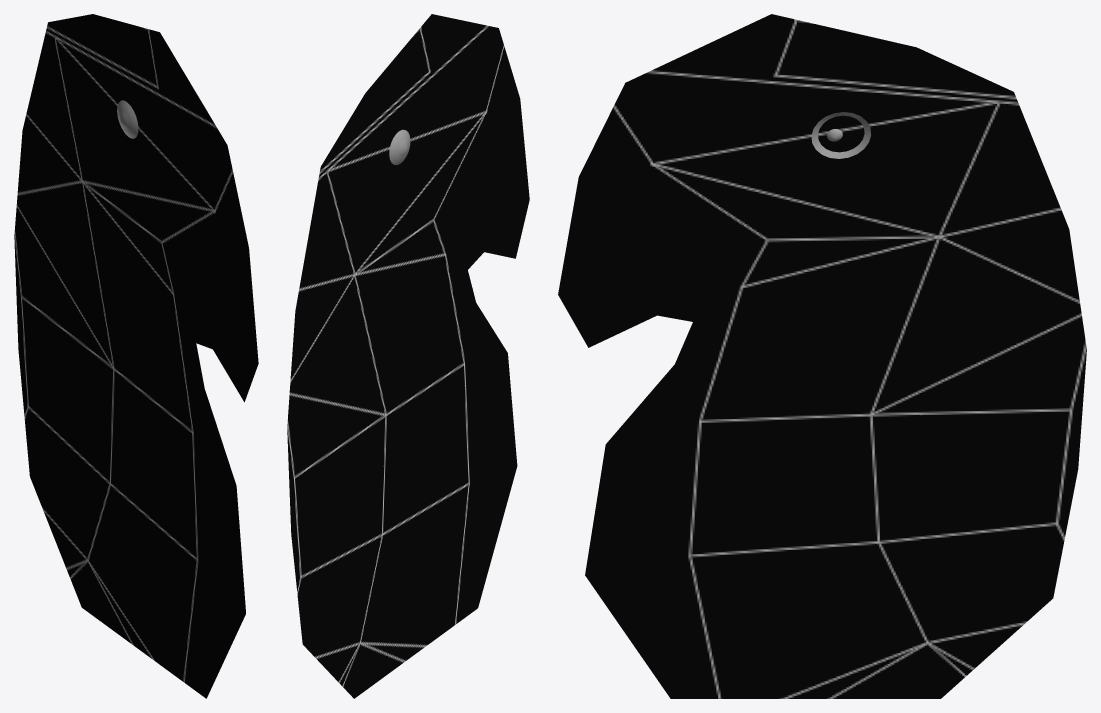
The model's file is Civilian.fbx.
3 renders of one model, left to right at view 1: azimuth 30°, elevation 25°; view 2: azimuth 150°, elevation 25°; view 3: azimuth 270°, elevation 25°, orthographic. The views are drawn at different scales.
Parts seen in each view (by area): view 1: Body, Eye; view 2: Body, Eye; view 3: Body, Eye.
Part boxes in pixels (x1,y1,x2,y2): Body: (14, 14, 258, 698); Eye: (117, 100, 138, 138); Body: (287, 14, 529, 698); Eye: (389, 129, 410, 164); Body: (558, 14, 1086, 698); Eye: (811, 112, 870, 158).
Bounding box in the file's own units: 1.2 × 30.42 × 21.29.
